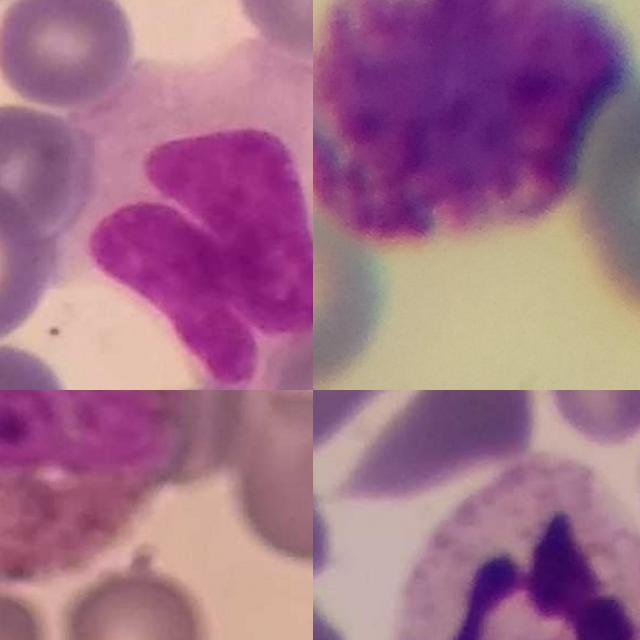Basophil: (313, 0, 623, 242)
Eosinophil: (0, 390, 190, 581)
Monocyte: (52, 36, 313, 390)
Neutrophil: (396, 454, 640, 640)
